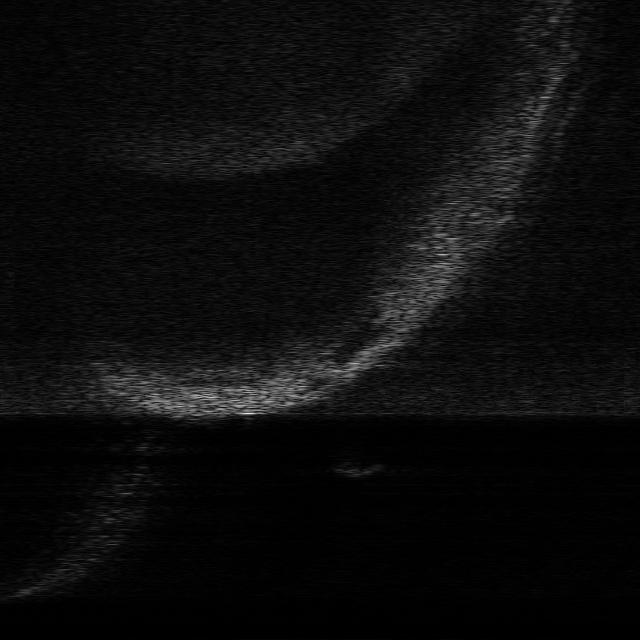cube: (330, 456, 385, 479)
